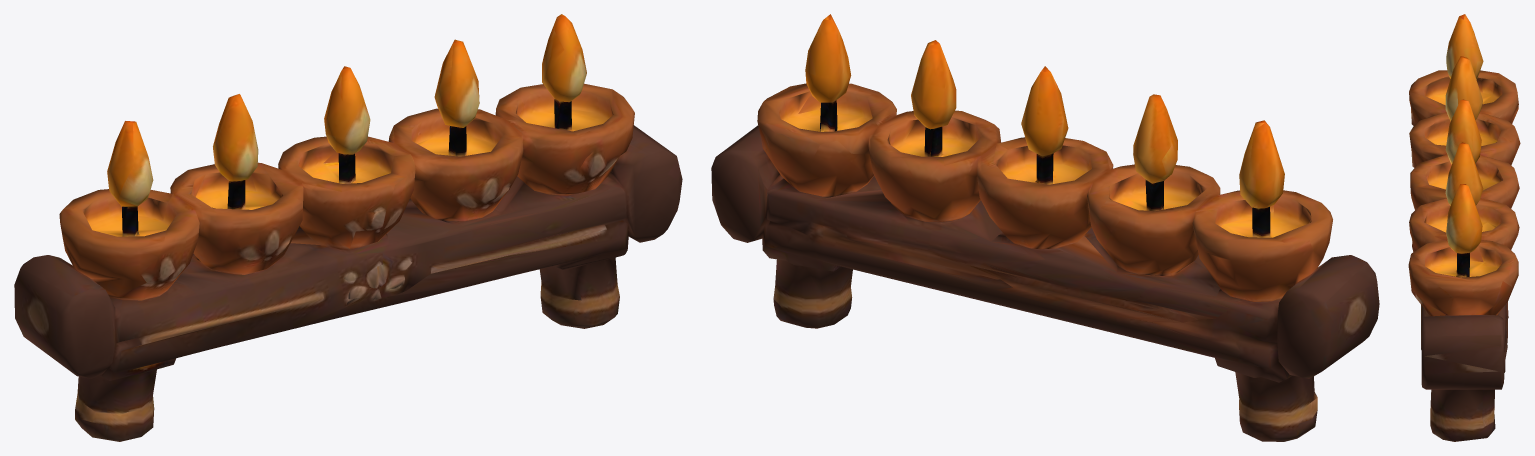
The model's file is diwalilights.glb.
The picture shows the model from 3 angles, left to right: view 1: azimuth 30°, elevation 25°; view 2: azimuth 150°, elevation 25°; view 3: azimuth 270°, elevation 25°; orthographic projection. The views are drawn at different scales.
Visible parts, largest first — view 1: model; view 2: model; view 3: model.
Part boxes in pixels (x1,y1,x2,y2): model: [14, 14, 682, 441]; model: [711, 14, 1379, 441]; model: [1408, 14, 1520, 441].
Size of the model in its own units: 1.9 by 0.8875 by 0.3714.
Materials: 1 (1 with a texture image).
